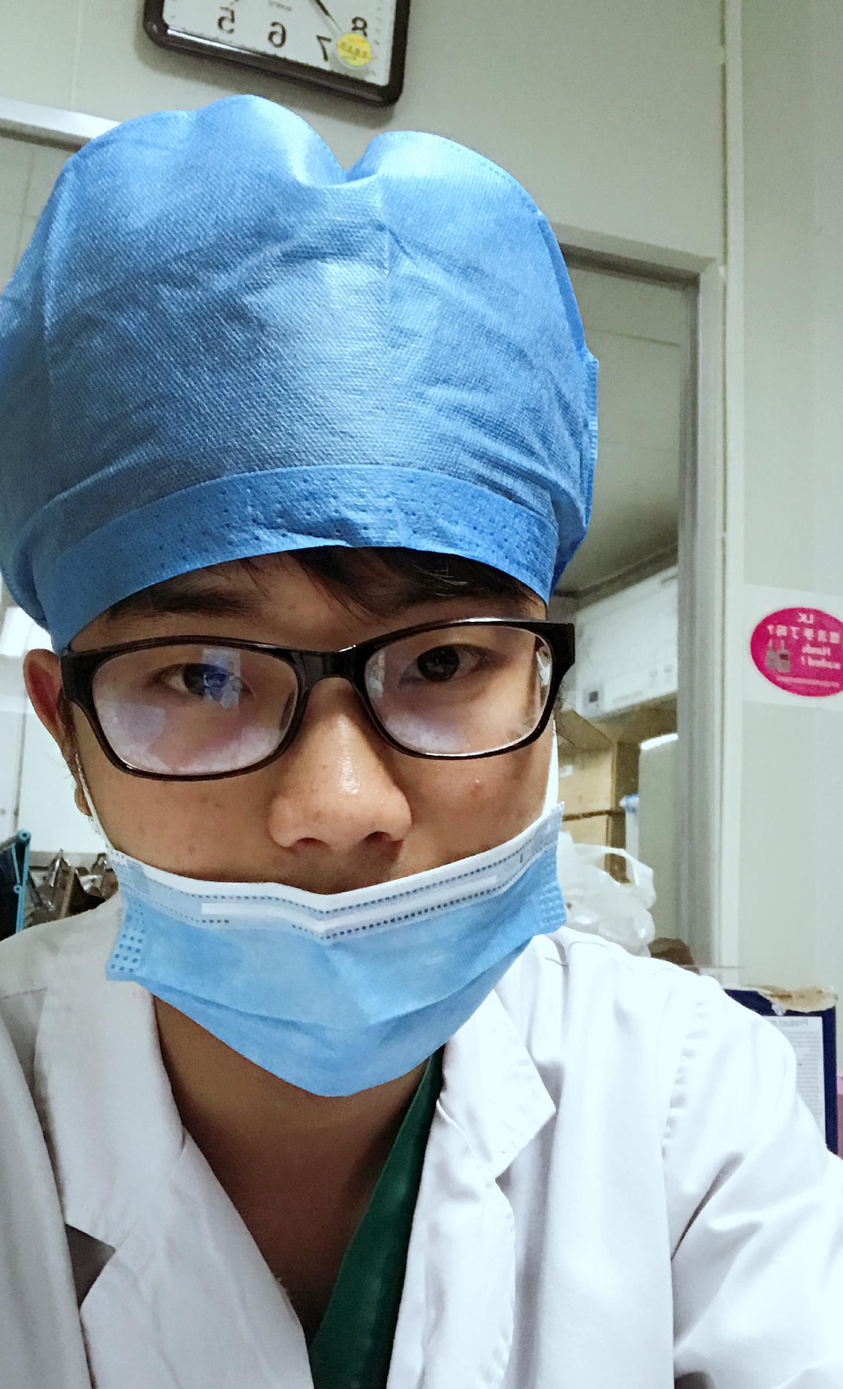WRONG: (37, 498, 631, 1089)
